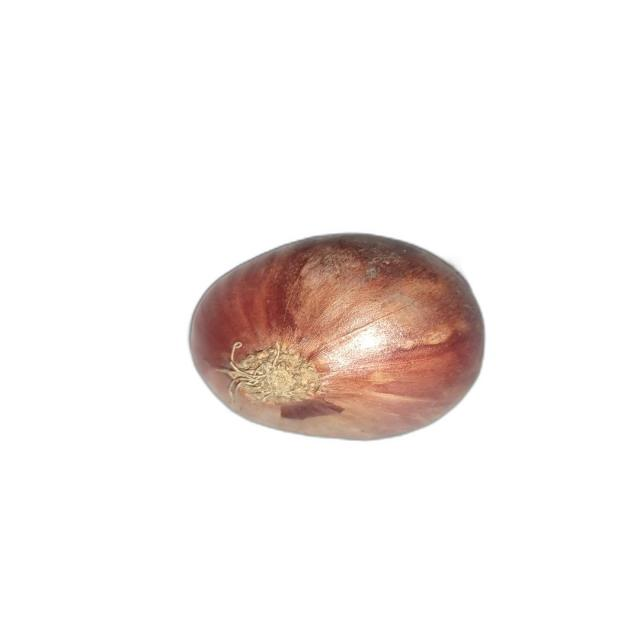onion: (187, 232, 486, 442)
